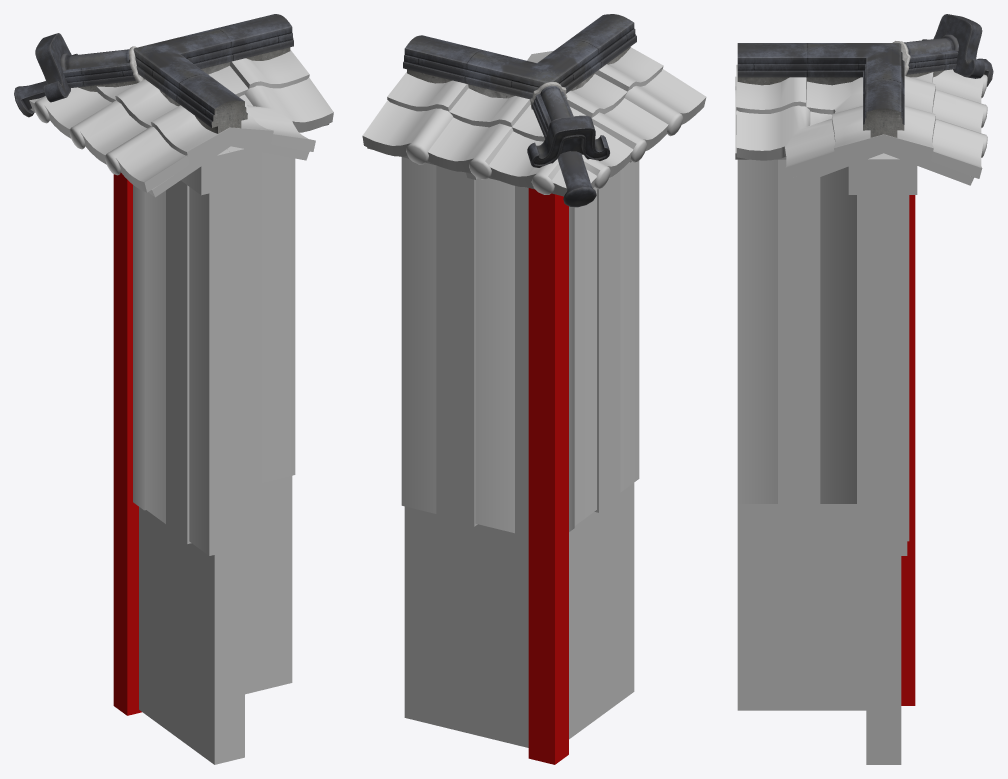
The model's file is SM_KYT_StreetWall01_Corner.fbx.
The picture shows the model from 3 angles, left to right: view 1: azimuth 30°, elevation 25°; view 2: azimuth 150°, elevation 25°; view 3: azimuth 270°, elevation 25°; orthographic projection. The views are drawn at different scales.
Parts seen in each view (by area): view 1: SM_KYT_StreetWall01_Corner_LOD0; view 2: SM_KYT_StreetWall01_Corner_LOD0; view 3: SM_KYT_StreetWall01_Corner_LOD0.
Boxes of the visible parts, x1,y1,x2,y2 form: SM_KYT_StreetWall01_Corner_LOD0: [14, 14, 333, 764]; SM_KYT_StreetWall01_Corner_LOD0: [362, 14, 706, 764]; SM_KYT_StreetWall01_Corner_LOD0: [735, 14, 993, 764].
Size of the model in its own units: 88.33 by 88.22 by 249.
